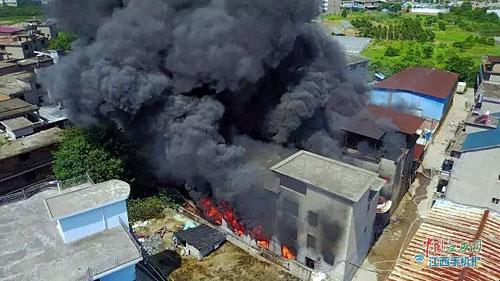fire: (192, 201, 304, 266)
smoke: (55, 4, 371, 161)
